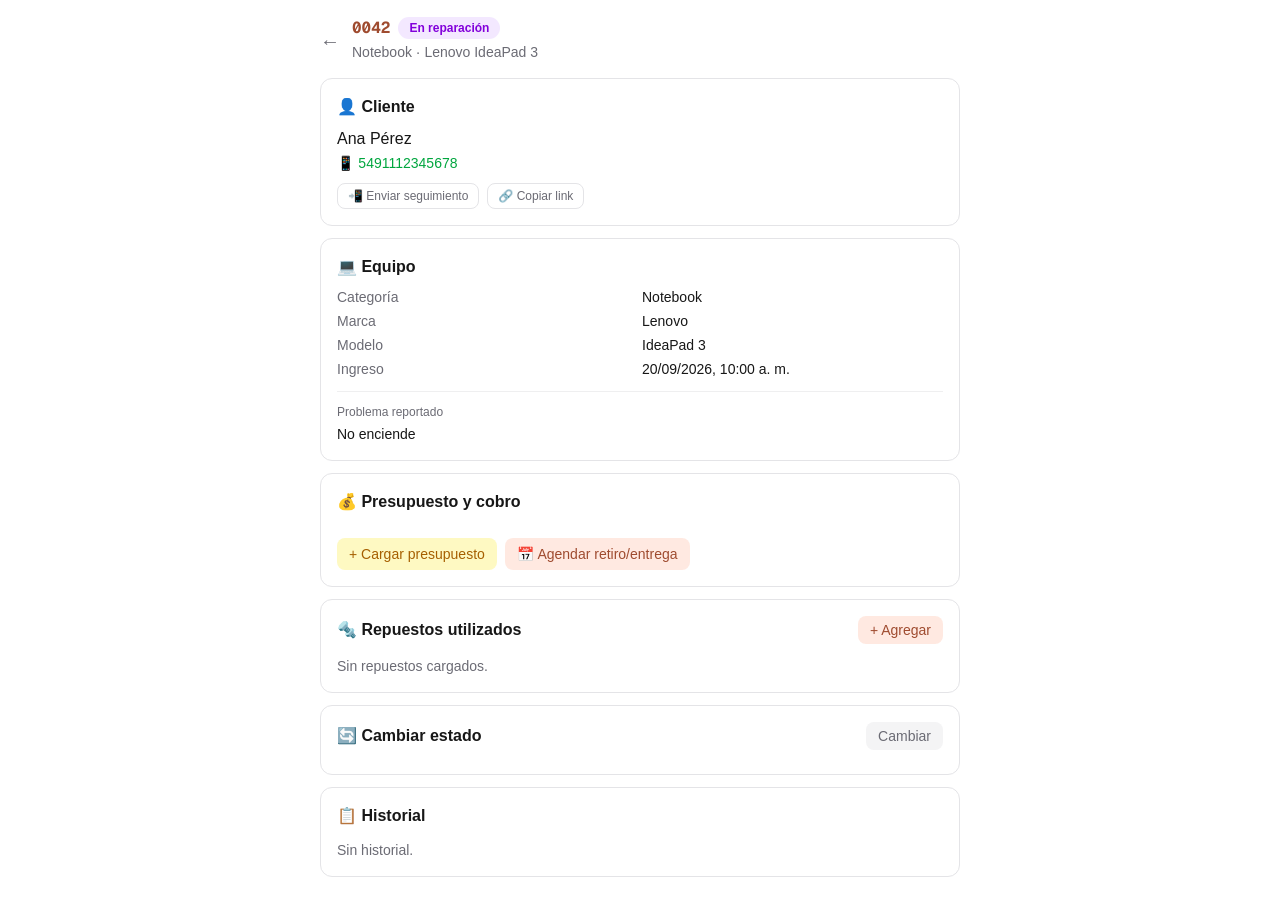
Test: DetalleReparacion (#180: agendar turno desde la reparación) › el botón abre el modal con los valores prellenados del equipo
Expected: the text "📅 Nuevo Turno" is not shown
Click the button "📅 Agendar retiro/entrega" at [597, 554], box [505,538,690,570]
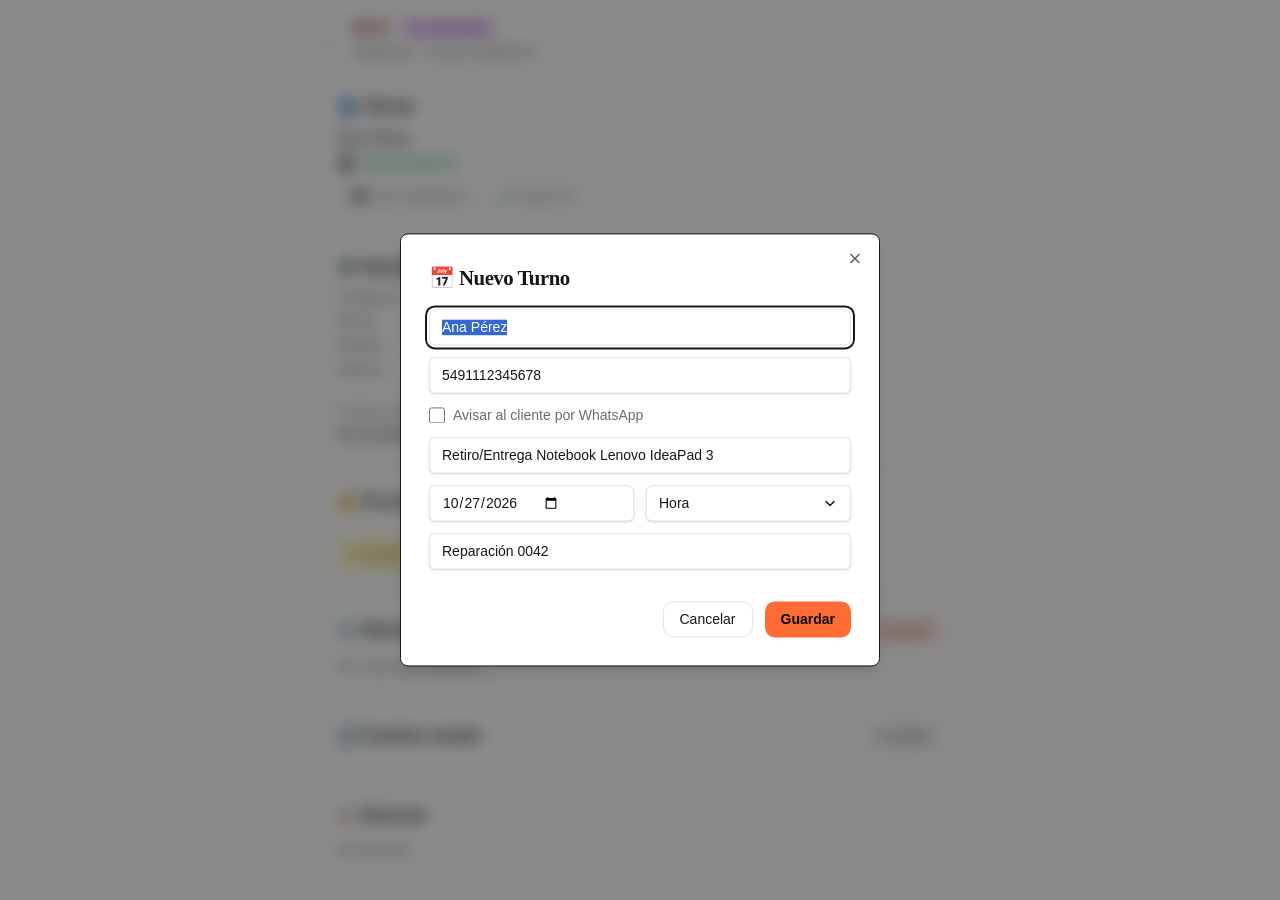
Result: the heading "📅 Nuevo Turno" is shown at [429,266,570,289]
Result: the 1st field with placeholder "Cliente o tarea" holds "Ana Pérez" at [429,310,851,346]
Result: the 2nd field with placeholder "Teléfono (opcional — con teléfono podés avisarle)" holds "5491112345678" at [429,358,851,394]
